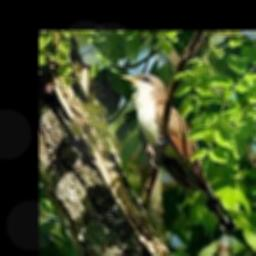Cuckoo: (120, 73, 234, 235)
